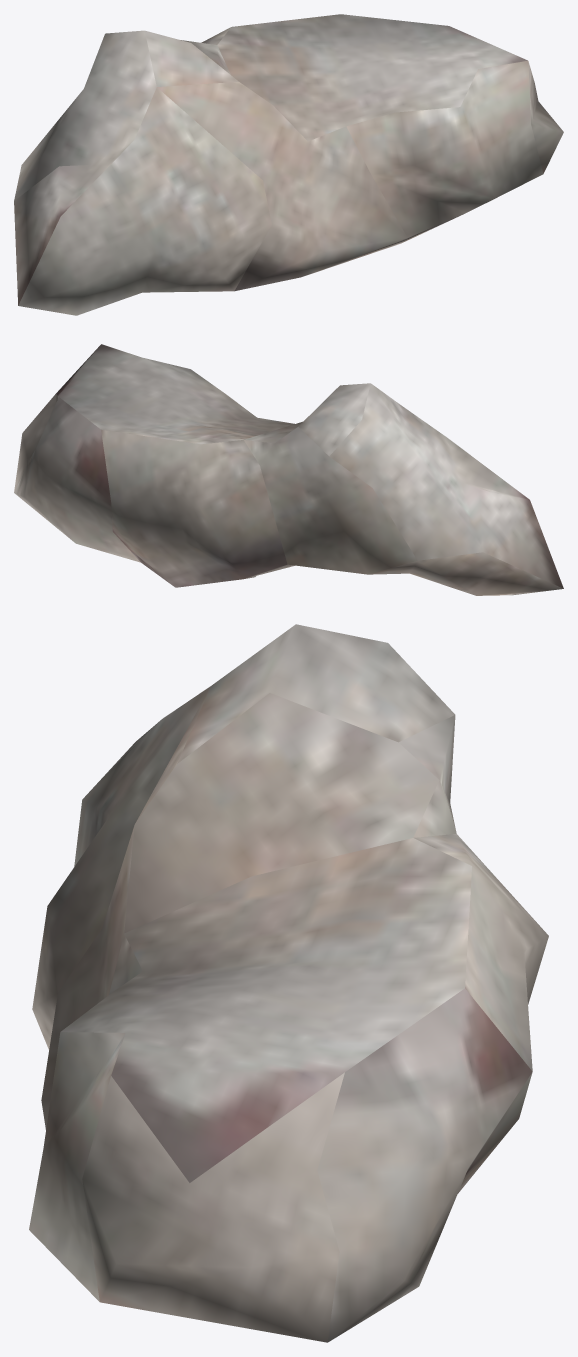
The model's file is Q_Limestone_8.fbx.
The picture shows the model from 3 angles, top to bottom: view 1: azimuth 30°, elevation 25°; view 2: azimuth 150°, elevation 25°; view 3: azimuth 270°, elevation 25°; orthographic projection. The views are drawn at different scales.
Visible parts, largest first — view 1: Aset_stone_rough_S_udmhajrva_02_LOD6; view 2: Aset_stone_rough_S_udmhajrva_02_LOD6; view 3: Aset_stone_rough_S_udmhajrva_02_LOD6.
Boxes of the visible parts, x1=… form: Aset_stone_rough_S_udmhajrva_02_LOD6: x1=14, y1=14, x2=563, y2=315; Aset_stone_rough_S_udmhajrva_02_LOD6: x1=14, y1=344, x2=563, y2=595; Aset_stone_rough_S_udmhajrva_02_LOD6: x1=29, y1=624, x2=548, y2=1342.
Size of the model in its own units: 35.87 by 14.34 by 15.65.
1 material, 1 textured.
